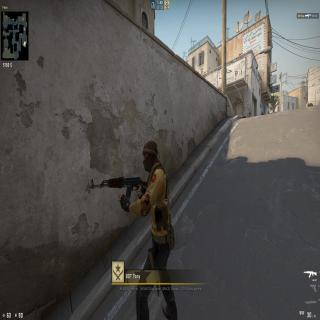T-Head: (142, 138, 158, 174)
